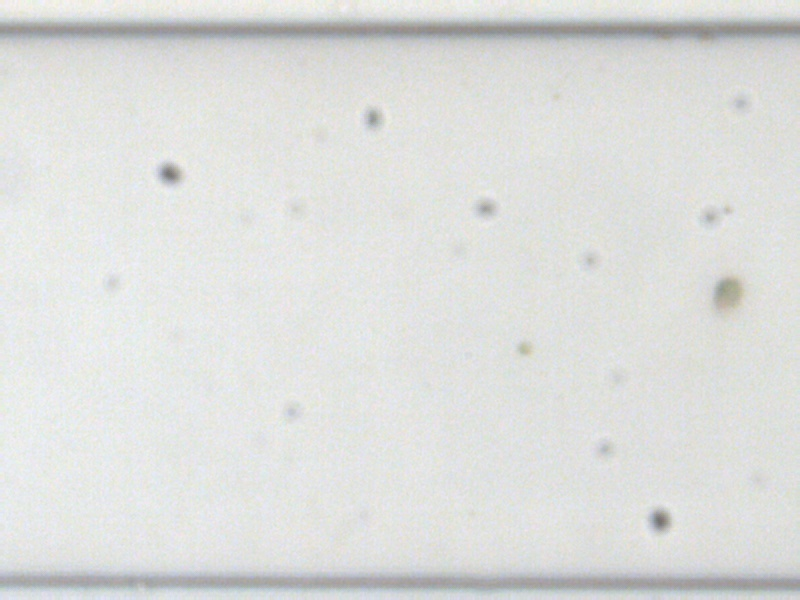Chlorella: (515, 338, 533, 354)
Dunaliella salina: (711, 271, 746, 315)
